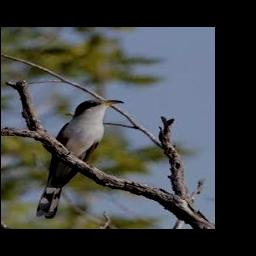Cuckoo: (36, 100, 124, 219)
